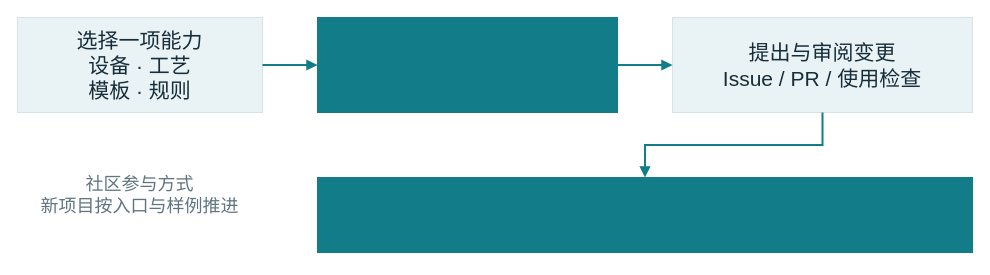
The diagram is 990 pixels wide and 275 high, and some of its shapes have lost their labels. Each missing label, with the box of its shape:
准备可用模块 定义 · 单位 · 许可 · 示例: (316, 16, 618, 112)
随版本交付 → 用户放入工程 → 运行并反馈: (316, 176, 972, 252)
